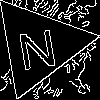N: (13, 20, 60, 71)
